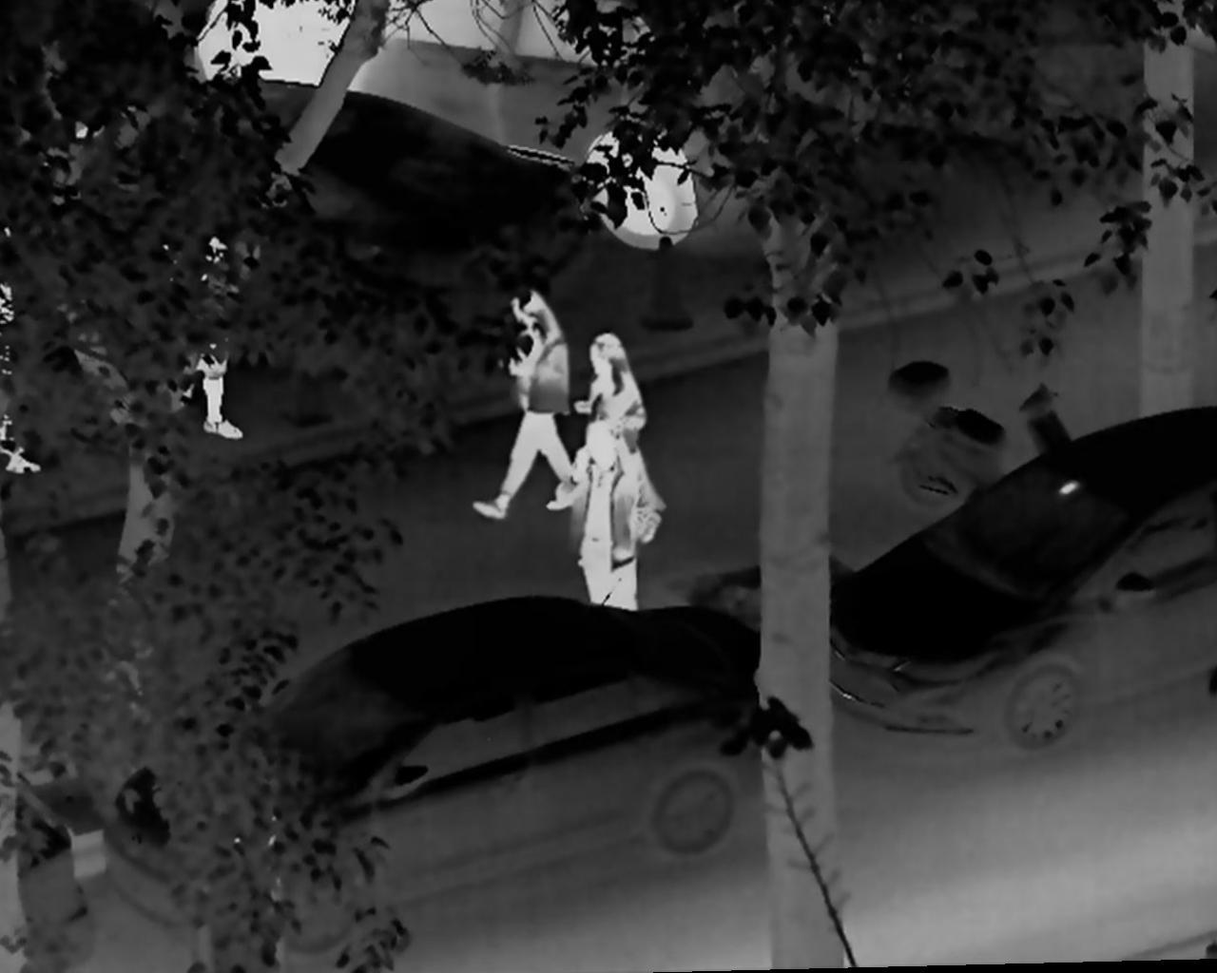person: (474, 286, 587, 522), (156, 188, 245, 444), (559, 326, 663, 541), (563, 420, 649, 620)
